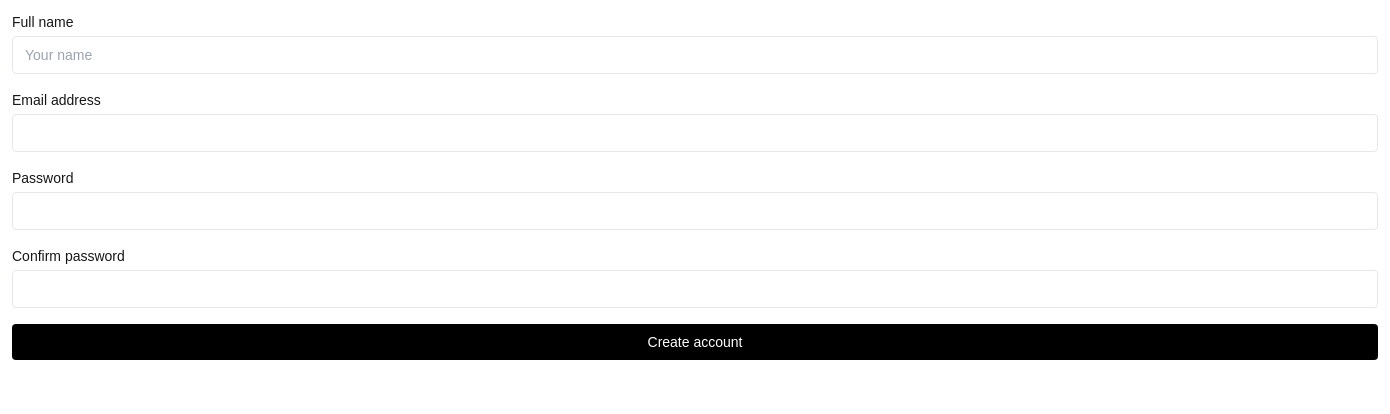
Test case: RegisterForm › Validation › shows error when password is too short
The image size is (1390, 414).
Type "Pete" into the field labelled "Full name".
click(695, 55); type("Pete")  # box [12,36,1378,74]
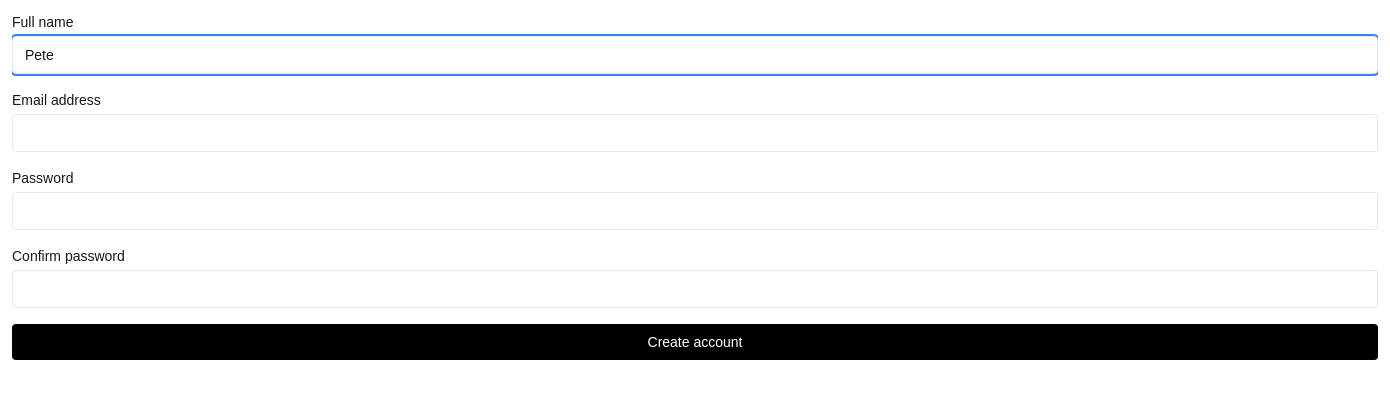
Type "a@b.com" into the field labelled "Email address".
click(695, 133); type("a@b.com")  # box [12,114,1378,152]
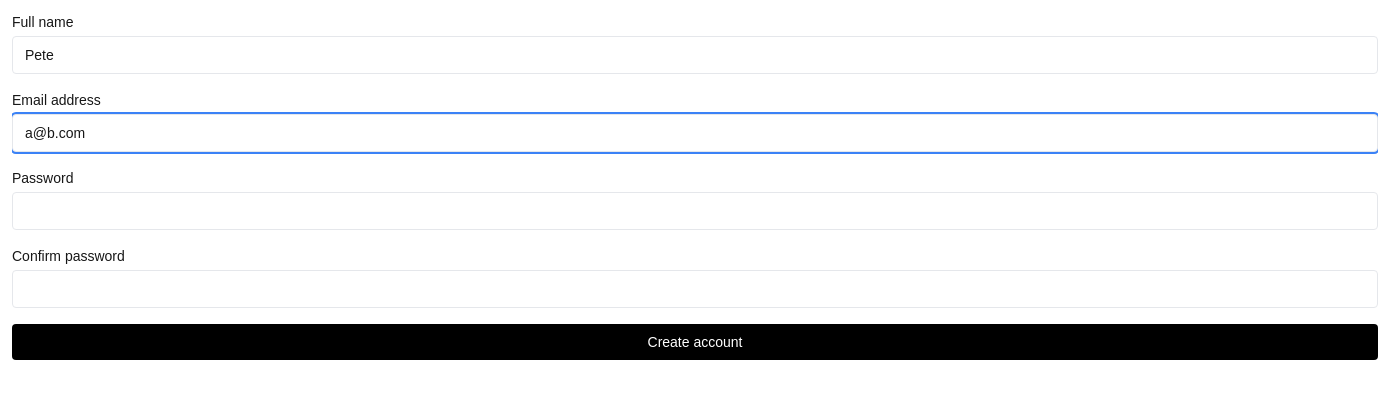
Type "short" into the password field labelled "Password".
click(695, 211); type("short")  # box [12,192,1378,230]
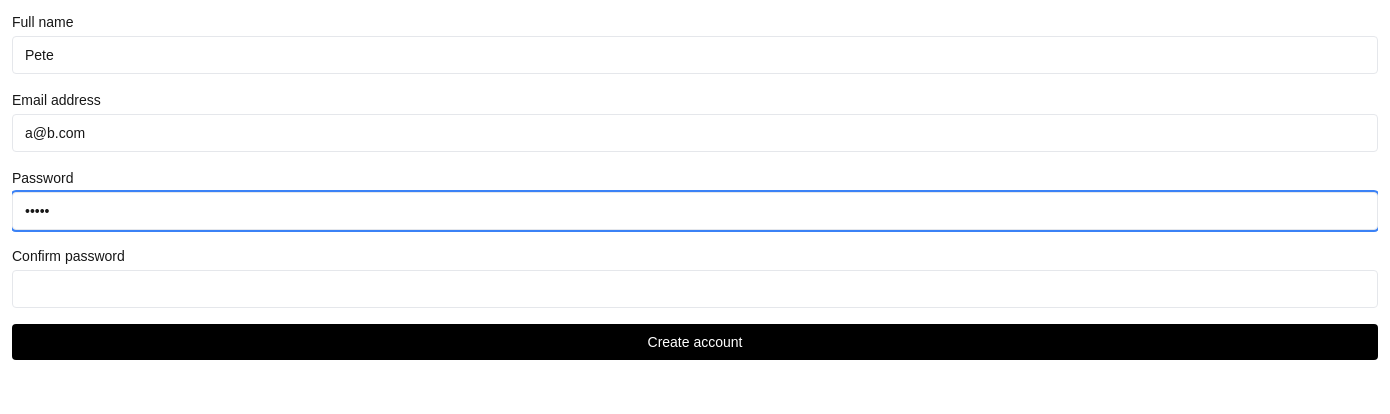
Type "short" into the password field labelled "Confirm password".
click(695, 289); type("short")  # box [12,270,1378,308]
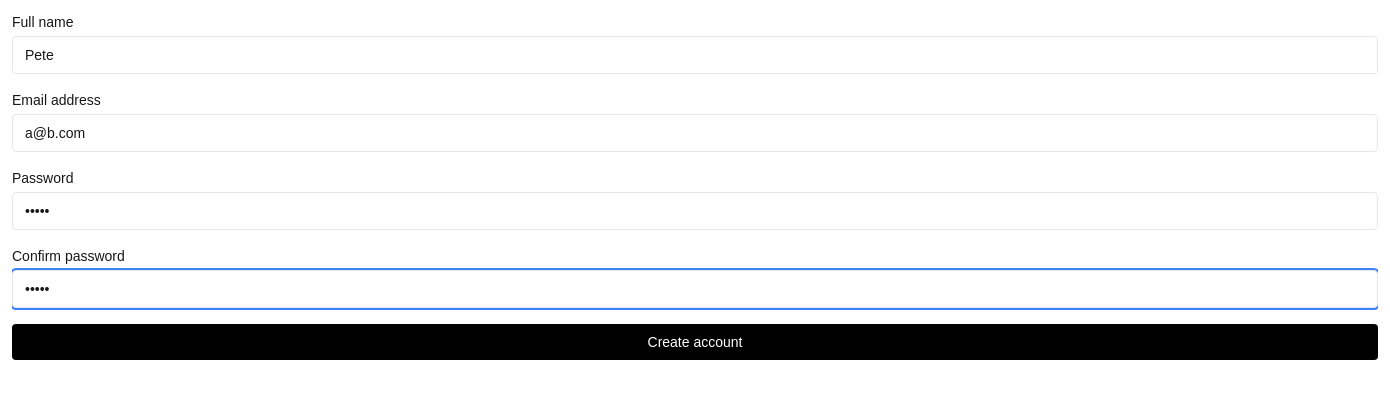
Click the button "Create account".
click(695, 342)  # box [12,324,1378,360]
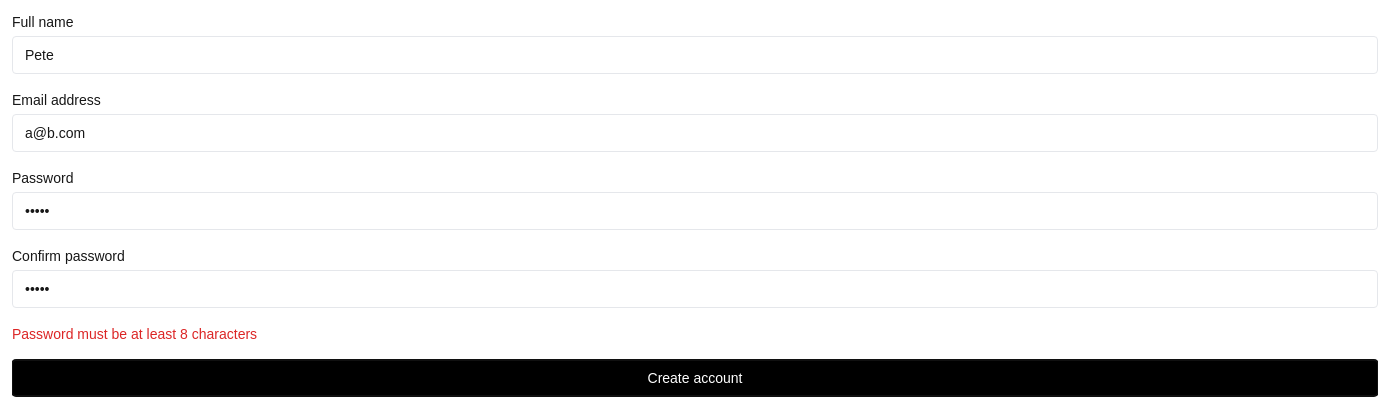
Expected: the text "Password must be at least 8 characters" is shown, [12,326,257,342]
